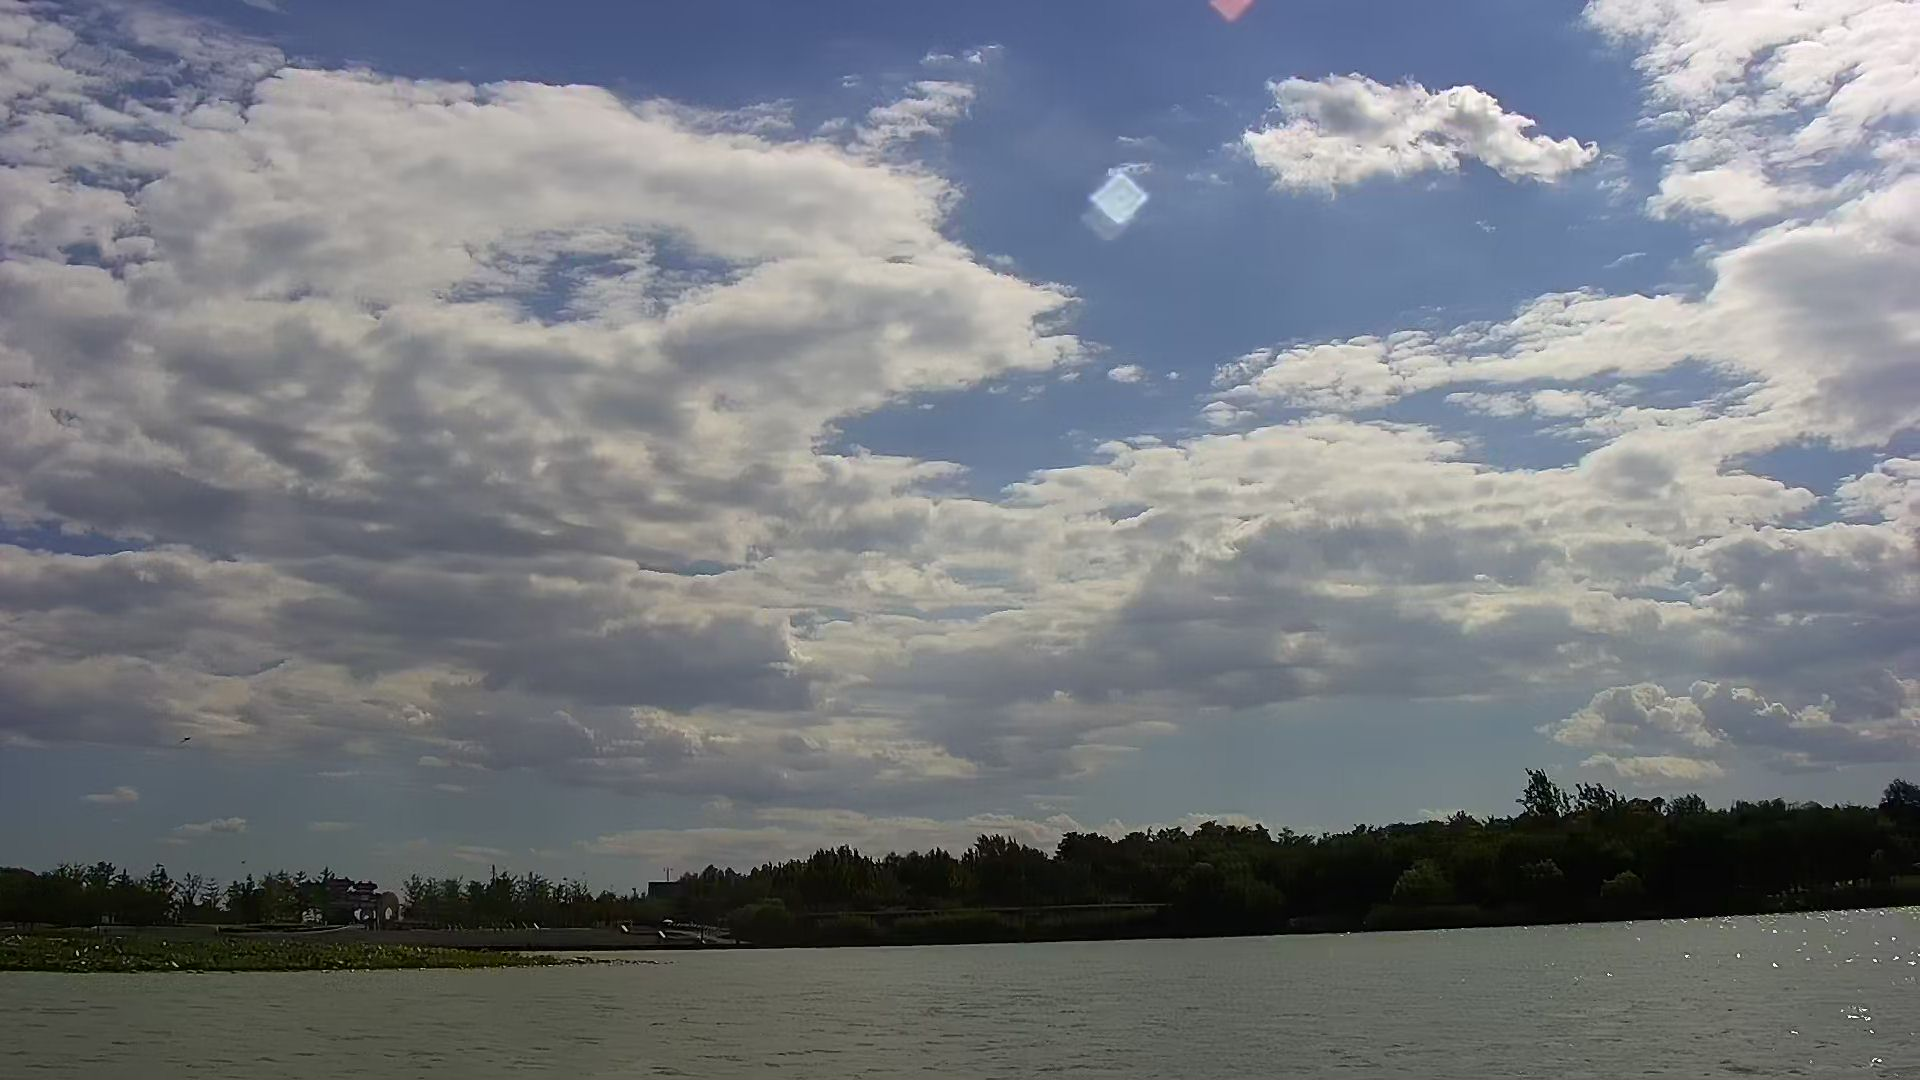harbor: (444, 927, 745, 949)
